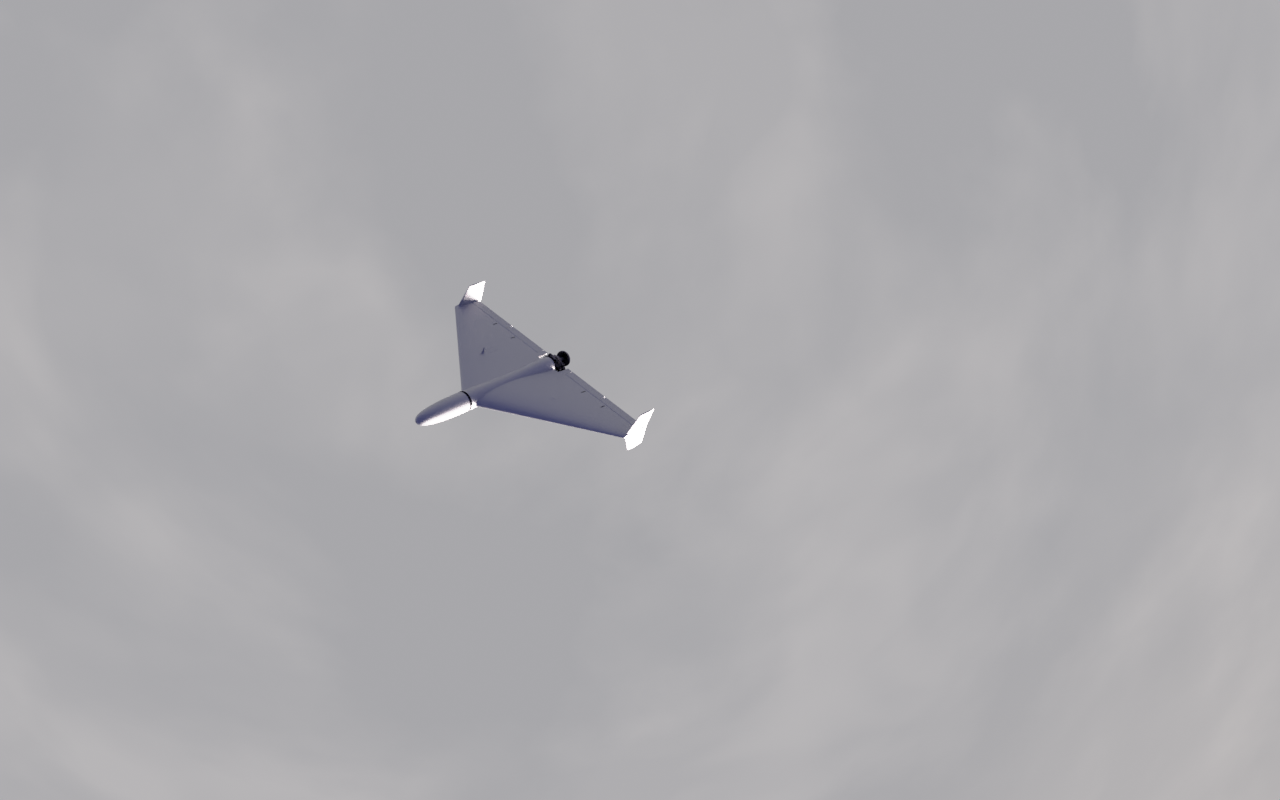shahed: (415, 281, 656, 452)
